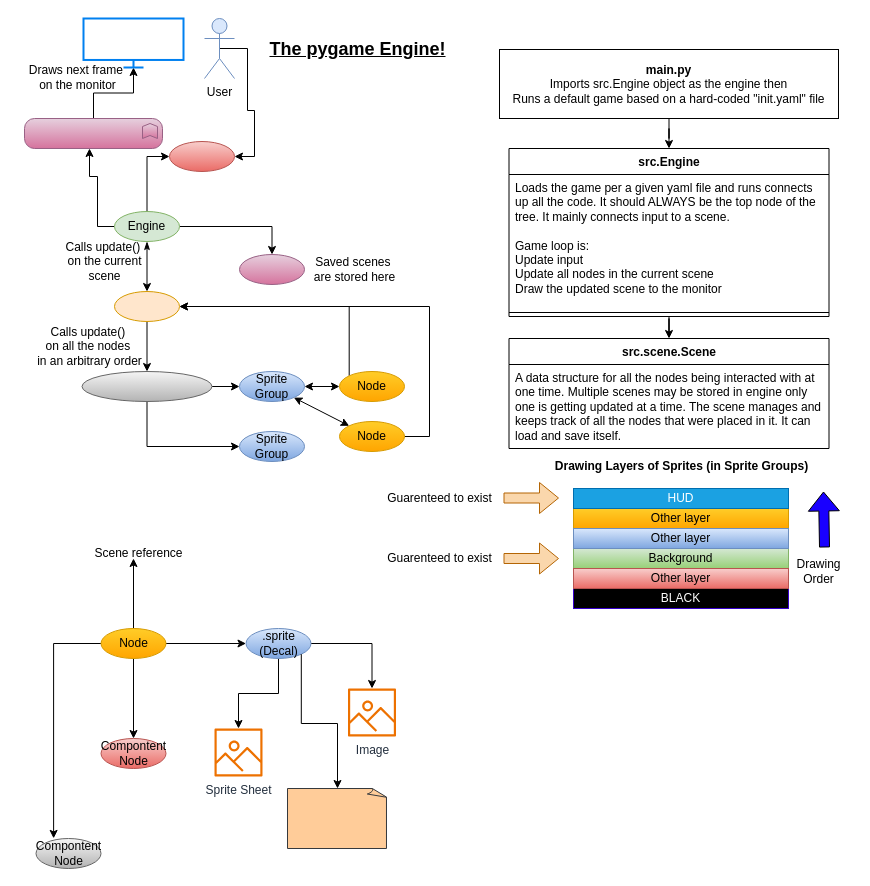
The diagram is 870 pixels wide and 886 high, and some of its shapes have lost their labels. Each missing label, with the centre of its shape:
animation "<name>.json": pixel 337 818
Current Scene: pixel 147 306
Dict[Scene]: pixel 271 269
Dict[Sprite Groups]: pixel 146 386
Draw Function: pixel 93 133
Input: pixel 201 156
